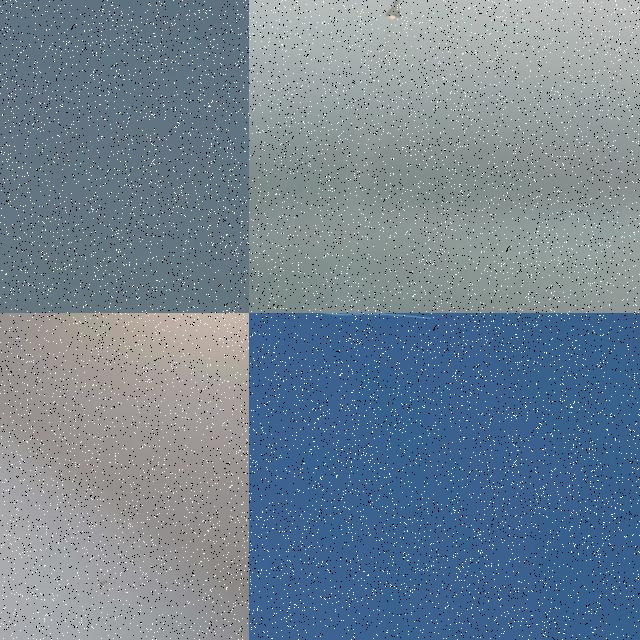Rocket: (385, 0, 409, 17), (429, 318, 432, 320)
